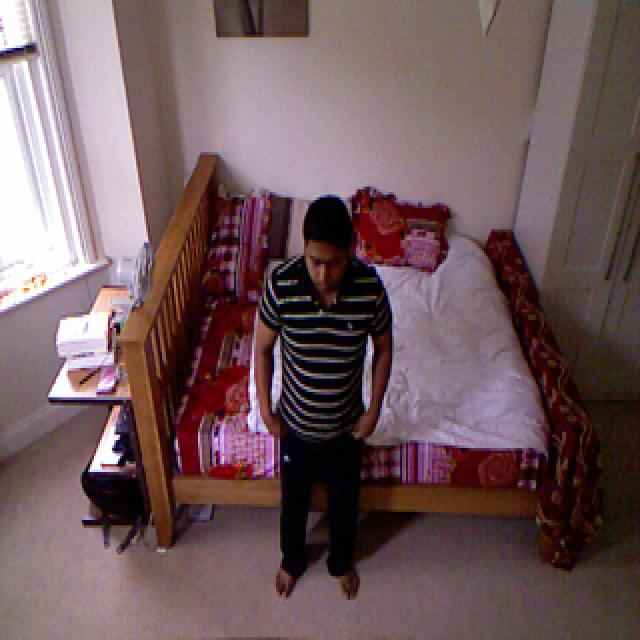standing: (258, 191, 393, 611)
